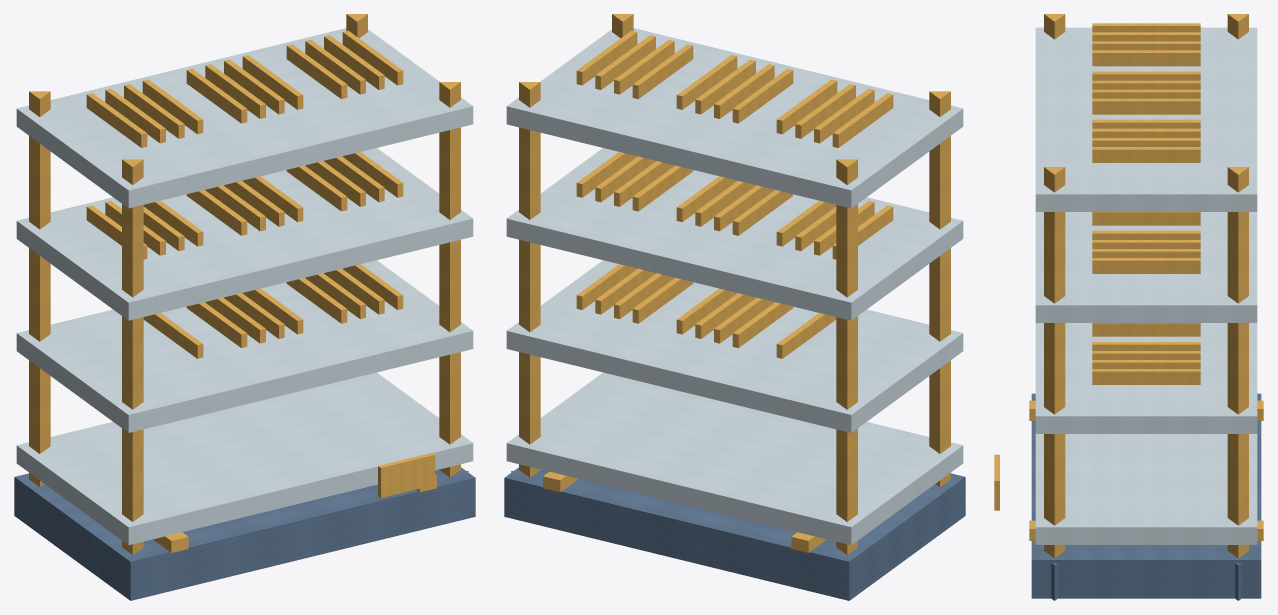
File: atlas100-s057-a01.lod2.glb
3 views of the same model, side by side, from view 1: azimuth 30°, elevation 25°; view 2: azimuth 150°, elevation 25°; view 3: azimuth 270°, elevation 25° (orthographic).
Parts seen in each view (by area): view 1: atlas100-s057-a01:part-011, atlas100-s057-a01:part-050, atlas100-s057-a01:part-024, atlas100-s057-a01:part-037, atlas100-s057-a01:part-000, atlas100-s057-a01:part-005, atlas100-s057-a01:part-009, atlas100-s057-a01:part-003, atlas100-s057-a01:part-063, atlas100-s057-a01:part-051, atlas100-s057-a01:part-055, atlas100-s057-a01:part-059 (+30 smaller); view 2: atlas100-s057-a01:part-011, atlas100-s057-a01:part-050, atlas100-s057-a01:part-024, atlas100-s057-a01:part-037, atlas100-s057-a01:part-000, atlas100-s057-a01:part-003, atlas100-s057-a01:part-007, atlas100-s057-a01:part-005, atlas100-s057-a01:part-051, atlas100-s057-a01:part-055, atlas100-s057-a01:part-059, atlas100-s057-a01:part-058 (+29 smaller); view 3: atlas100-s057-a01:part-050, atlas100-s057-a01:part-011, atlas100-s057-a01:part-037, atlas100-s057-a01:part-024, atlas100-s057-a01:part-000, atlas100-s057-a01:part-009, atlas100-s057-a01:part-007, atlas100-s057-a01:part-054, atlas100-s057-a01:part-058, atlas100-s057-a01:part-036, atlas100-s057-a01:part-049, atlas100-s057-a01:part-062 (+19 smaller).
Boxes of the visible parts, left/top/right/bottom form: atlas100-s057-a01:part-011: left=16, top=372, right=473, bottom=545; atlas100-s057-a01:part-050: left=16, top=28, right=473, bottom=208; atlas100-s057-a01:part-024: left=16, top=260, right=473, bottom=432; atlas100-s057-a01:part-037: left=16, top=148, right=473, bottom=320; atlas100-s057-a01:part-000: left=14, top=467, right=475, bottom=600; atlas100-s057-a01:part-005: left=122, top=159, right=143, bottom=554; atlas100-s057-a01:part-009: left=439, top=82, right=460, bottom=477; atlas100-s057-a01:part-003: left=29, top=91, right=50, bottom=486; atlas100-s057-a01:part-063: left=378, top=452, right=435, bottom=497; atlas100-s057-a01:part-051: left=86, top=93, right=147, bottom=147; atlas100-s057-a01:part-055: left=186, top=68, right=247, bottom=123; atlas100-s057-a01:part-059: left=286, top=44, right=347, bottom=99; atlas100-s057-a01:part-011: left=506, top=372, right=963, bottom=545; atlas100-s057-a01:part-050: left=506, top=28, right=963, bottom=208; atlas100-s057-a01:part-024: left=506, top=260, right=963, bottom=432; atlas100-s057-a01:part-037: left=506, top=148, right=963, bottom=320; atlas100-s057-a01:part-000: left=504, top=467, right=965, bottom=600; atlas100-s057-a01:part-003: left=836, top=159, right=857, bottom=554; atlas100-s057-a01:part-007: left=519, top=82, right=540, bottom=477; atlas100-s057-a01:part-005: left=929, top=91, right=950, bottom=486; atlas100-s057-a01:part-051: left=832, top=93, right=893, bottom=147; atlas100-s057-a01:part-055: left=732, top=68, right=793, bottom=123; atlas100-s057-a01:part-059: left=632, top=44, right=693, bottom=99; atlas100-s057-a01:part-058: left=676, top=55, right=737, bottom=109; atlas100-s057-a01:part-050: left=1035, top=27, right=1257, bottom=211; atlas100-s057-a01:part-011: left=1035, top=434, right=1257, bottom=544; atlas100-s057-a01:part-037: left=1035, top=212, right=1257, bottom=322; atlas100-s057-a01:part-024: left=1035, top=323, right=1257, bottom=433; atlas100-s057-a01:part-000: left=1031, top=393, right=1261, bottom=598; atlas100-s057-a01:part-009: left=1044, top=167, right=1065, bottom=558; atlas100-s057-a01:part-007: left=1227, top=167, right=1248, bottom=558; atlas100-s057-a01:part-054: left=1092, top=50, right=1200, bottom=66; atlas100-s057-a01:part-058: left=1092, top=98, right=1200, bottom=114; atlas100-s057-a01:part-036: left=1092, top=369, right=1200, bottom=384; atlas100-s057-a01:part-049: left=1092, top=258, right=1200, bottom=273; atlas100-s057-a01:part-062: left=1092, top=147, right=1200, bottom=162.
Size of the model in its own units: 2.43 by 2.88 by 1.64.
Materials: 3 (3 with a texture image).
